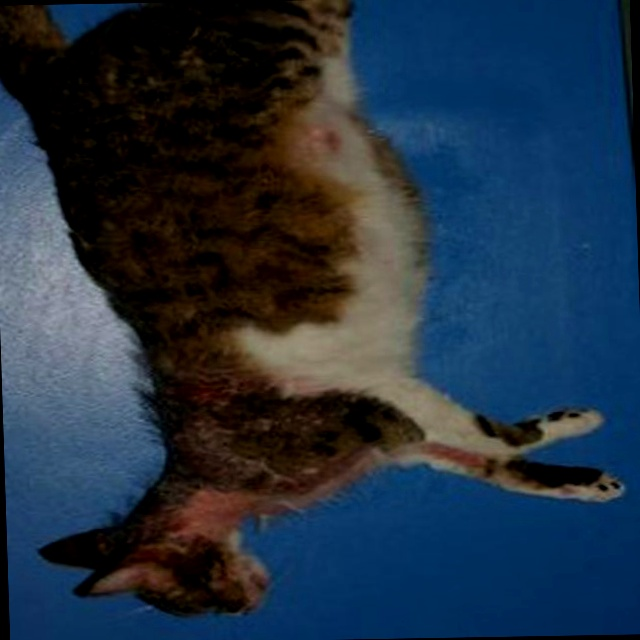hairloss: (242, 77, 425, 391)
